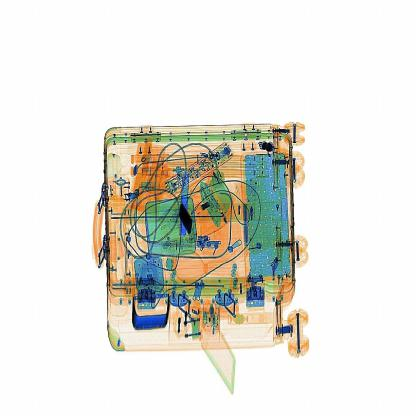pliers: (175, 168, 205, 244)
